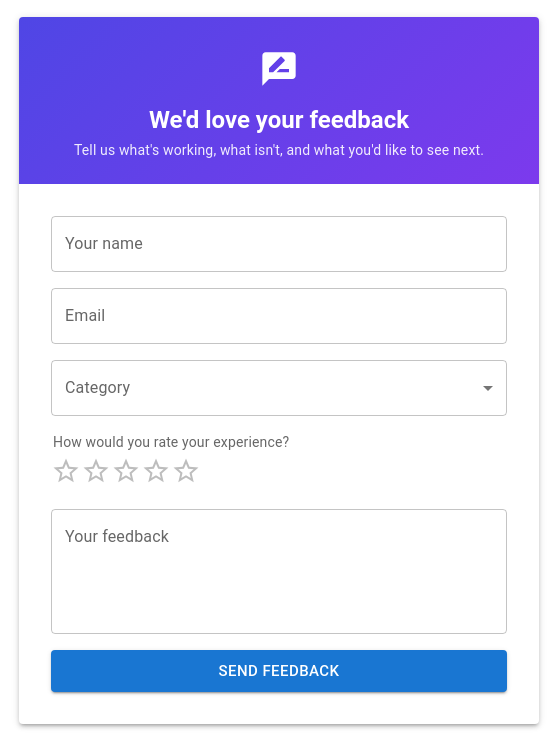
FeedbackPage › rejects an invalid email address
Type "Jane Doe" into the field labelled "Your name" at {"x": 279, "y": 244}, box [51,216,507,272]
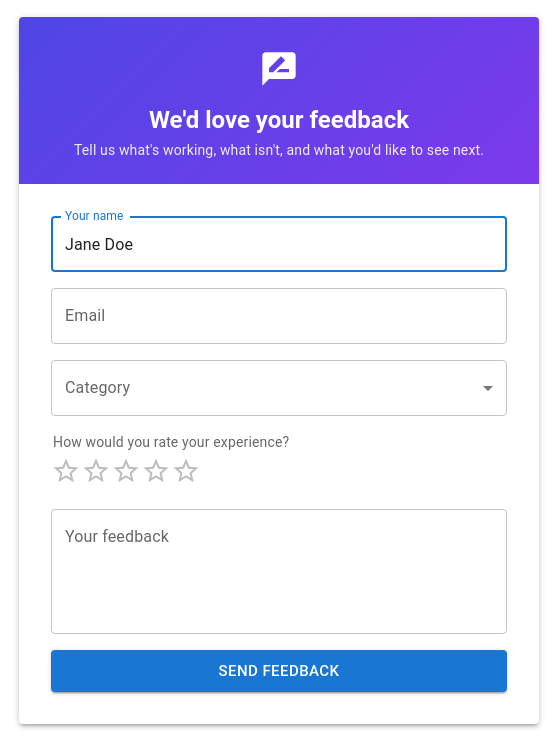
Type "not-an-email" into the field labelled "Email" at {"x": 279, "y": 316}, box [51,288,507,344]
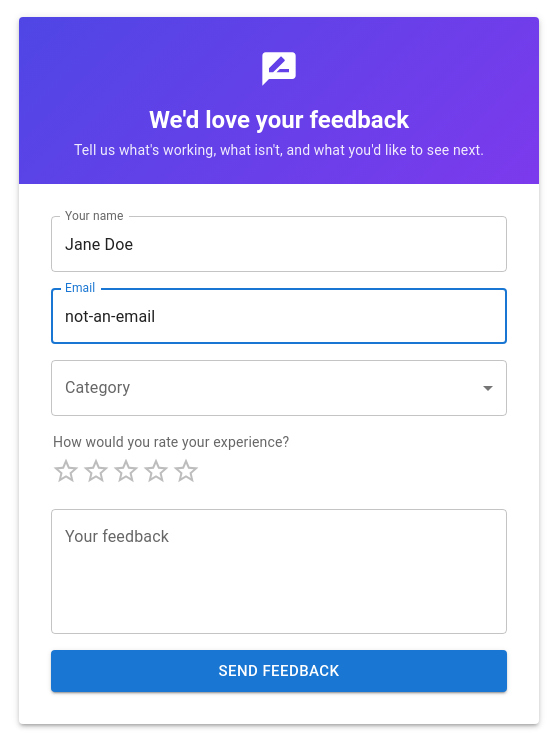
Click the button "Send feedback" at {"x": 279, "y": 671}, box [51,650,507,692]
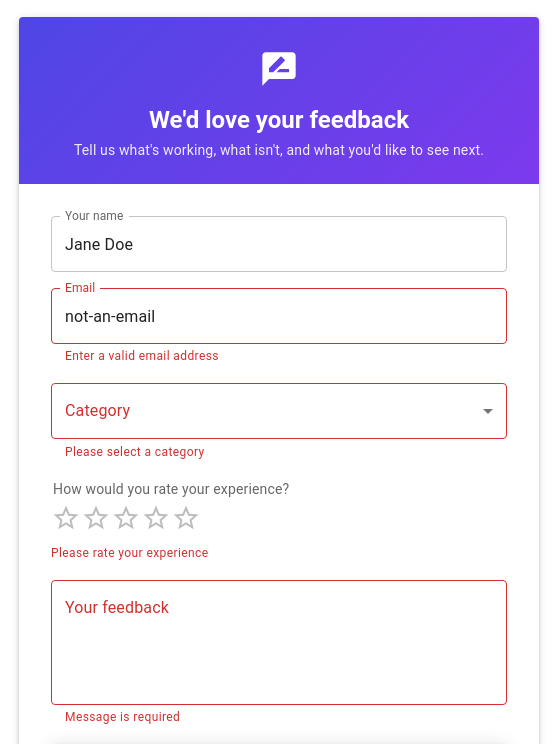
Result: the text "Enter a valid email address" is shown at [65,349,219,363]
